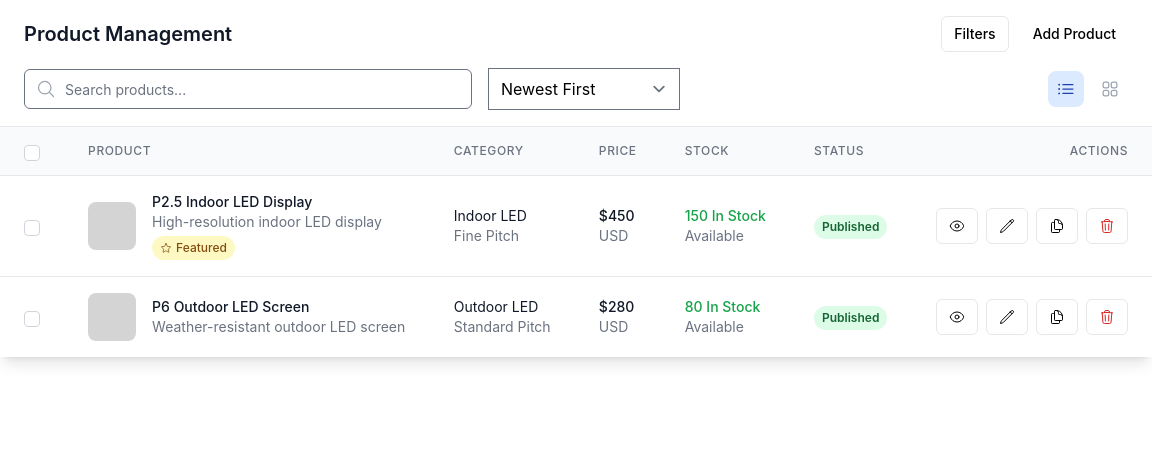
Test: ProductManagement › handles bulk actions
The image size is (1152, 459).
Click the checkbox below "P2.5 Indoor LED Display". click: (32, 228)
box: [24,220,40,236]
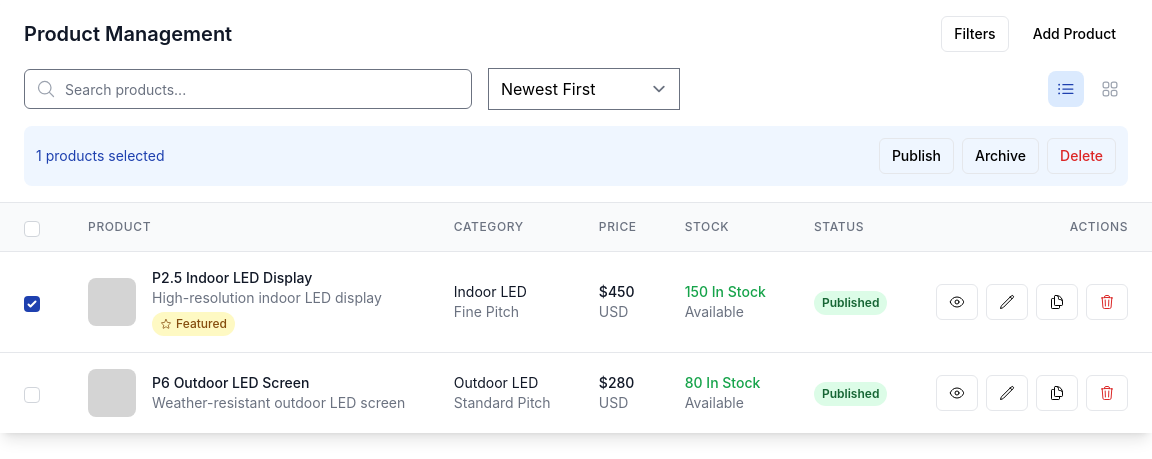
Expected: the button "Publish" is shown
# Test bulk publish
Click the button "Publish". click: (916, 156)
box: [879,138,954,174]
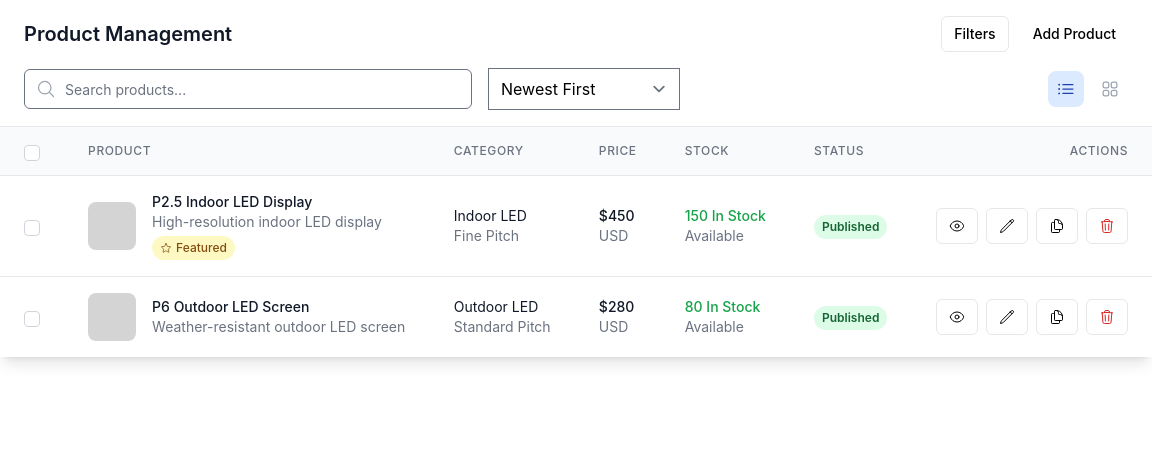
Expected: the text "products selected" is gone
